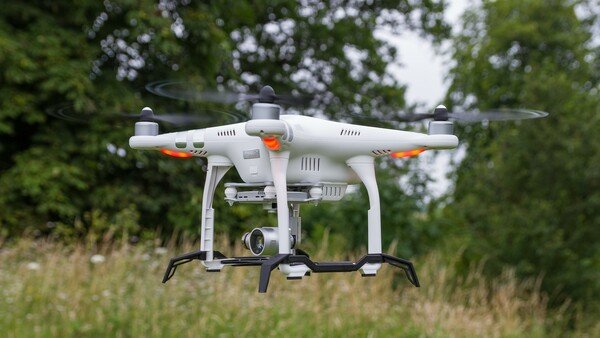drone: (114, 78, 550, 295)
